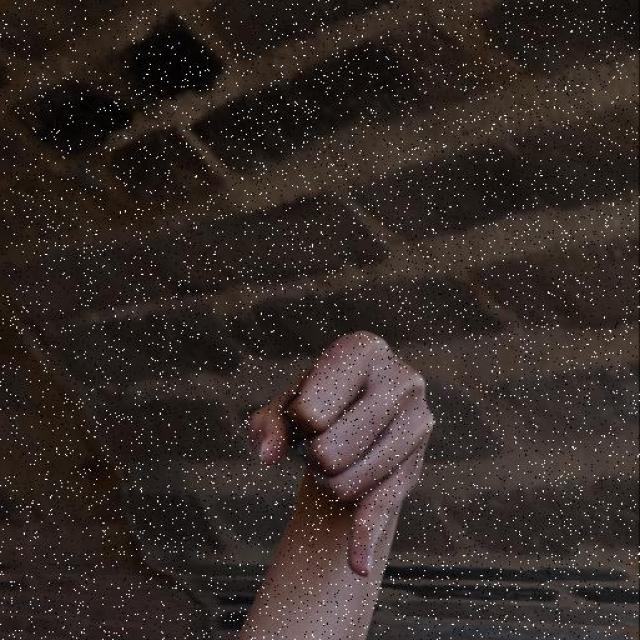J: (238, 323, 442, 598)
